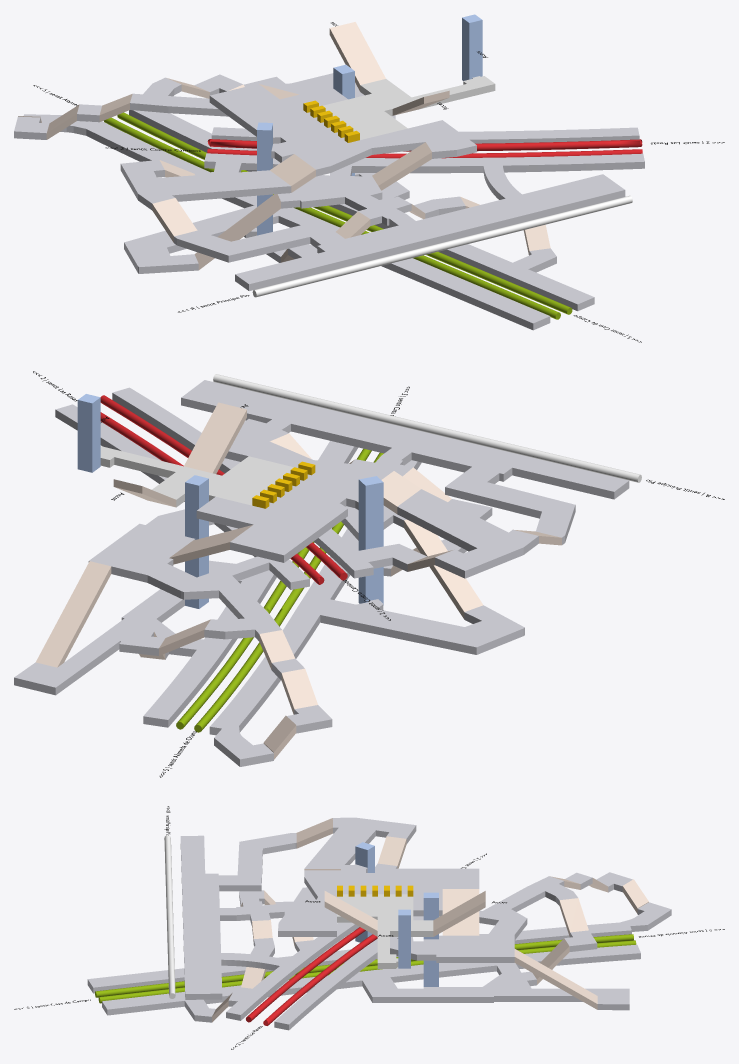
Rendered from opera.glb.
The picture shows the model from 3 angles, top to bottom: view 1: azimuth 30°, elevation 25°; view 2: azimuth 150°, elevation 25°; view 3: azimuth 270°, elevation 25°; orthographic projection. The views are drawn at different scales.
Parts seen in each view (by area): view 1: path70, path1126, rect56, path2365, path116, rect48, path2312, path2344, rect50, rect1003, rect966, rect62 (+10 smaller); view 2: path70, path1126, rect56, path116, rect48, path2312, path2365, rect964, rect75-1, path2344, rect2338, rect966 (+11 smaller); view 3: path70, path1126, rect56, rect48, path116, path2365, path2344, rect964, path2312, rect58, rect2338, rect75 (+12 smaller).
Boxes of the visible parts, x1,y1,x2,y2 form: path70: (130, 73, 644, 290); path1126: (23, 76, 594, 330); rect56: (209, 83, 476, 176); path2365: (104, 112, 572, 319); path116: (120, 160, 291, 210); rect48: (323, 76, 495, 139); path2312: (252, 195, 632, 297); path2344: (207, 139, 642, 158); rect50: (329, 22, 385, 91); rect1003: (462, 14, 482, 80); rect966: (194, 194, 280, 269); rect62: (372, 142, 431, 190); path70: (55, 380, 629, 641); path1126: (14, 441, 524, 766); rect56: (196, 419, 393, 562); path116: (397, 489, 538, 578); rect48: (100, 446, 293, 507); path2312: (213, 374, 641, 482); path2365: (176, 448, 383, 732); rect964: (36, 561, 111, 667); rect75-1: (358, 476, 383, 605); path2344: (100, 395, 347, 584); rect2338: (184, 402, 246, 473); rect966: (404, 519, 483, 618); path70: (180, 833, 577, 1030); path1126: (87, 902, 671, 1022); rect56: (278, 864, 479, 936); rect48: (337, 894, 433, 968); path116: (304, 817, 416, 868); path2365: (95, 934, 636, 1003); path2344: (246, 927, 377, 1025); rect964: (514, 949, 597, 1009); path2312: (164, 835, 175, 998); rect58: (442, 889, 479, 935); rect2338: (324, 891, 377, 936); rect75: (423, 892, 438, 986).
Size of the model in its own units: 88.21 by 21 by 109.
